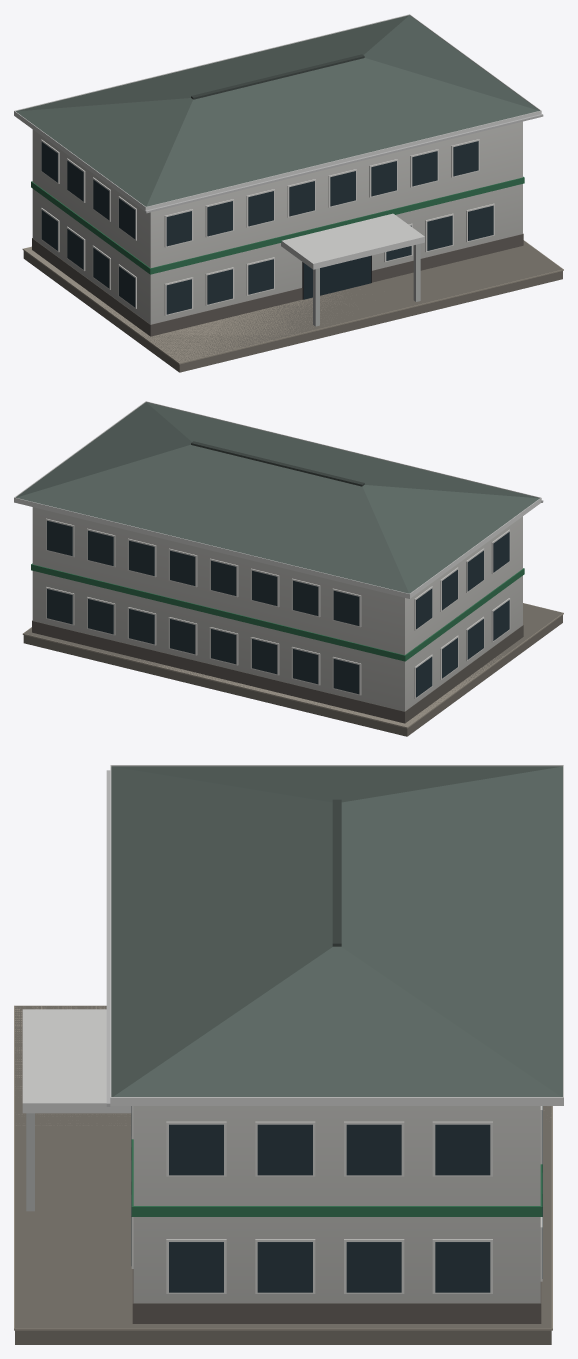
File: ns_clinic_lod1.glb
3 views of the same model, one above another, from view 1: azimuth 30°, elevation 25°; view 2: azimuth 150°, elevation 25°; view 3: azimuth 270°, elevation 25° (orthographic). The views are drawn at different scales.
Visible parts, largest first — view 1: ns_clinic_lod1; view 2: ns_clinic_lod1; view 3: ns_clinic_lod1.
Boxes of the visible parts, left/top/right/bottom form: ns_clinic_lod1: left=14, top=14, right=563, bottom=372; ns_clinic_lod1: left=14, top=401, right=563, bottom=736; ns_clinic_lod1: left=14, top=765, right=563, bottom=1344.
Bounding box in the file's own units: 21.32 × 9.31 × 14.86.
